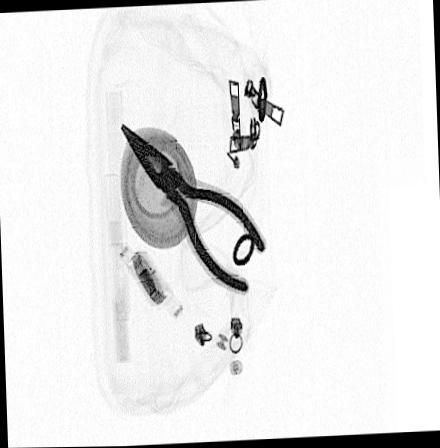Pliers: (118, 120, 264, 295)
